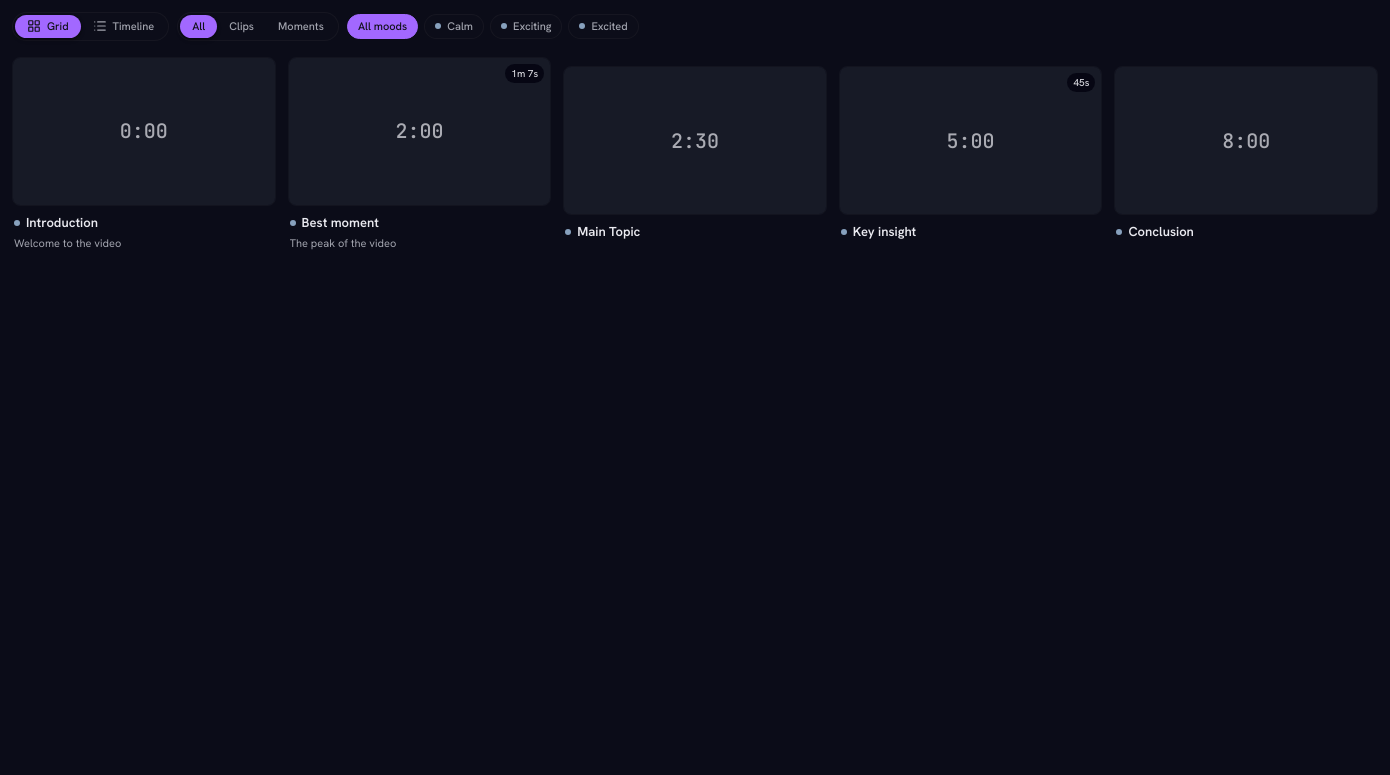
Test: MomentTrack › view toggle and persistence › switches to the timeline view and persists the choice
The width and height of the screenshot is (1390, 775).
Click the button with test id "view-timeline" at (123, 26), box [81,15,166,38]
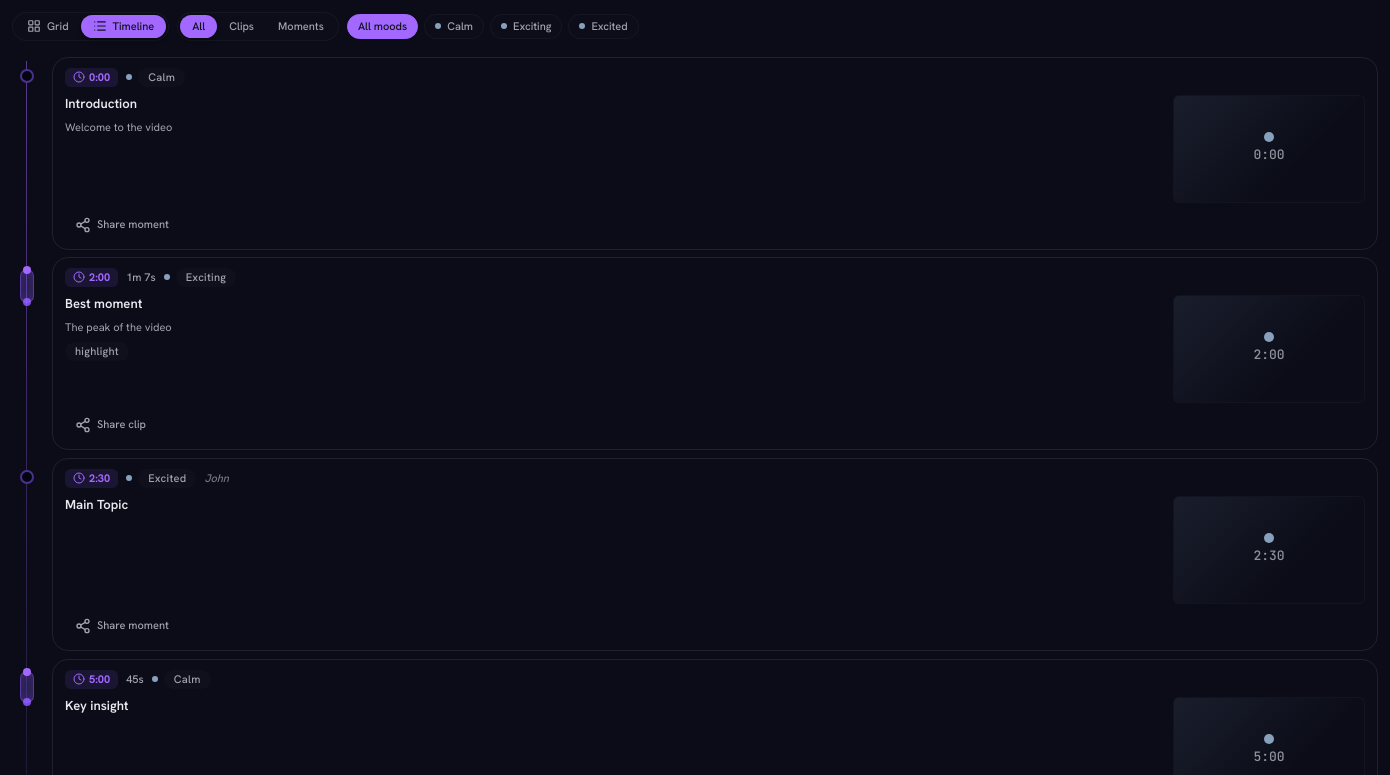
Now the element with test id "moment-grid" is gone
